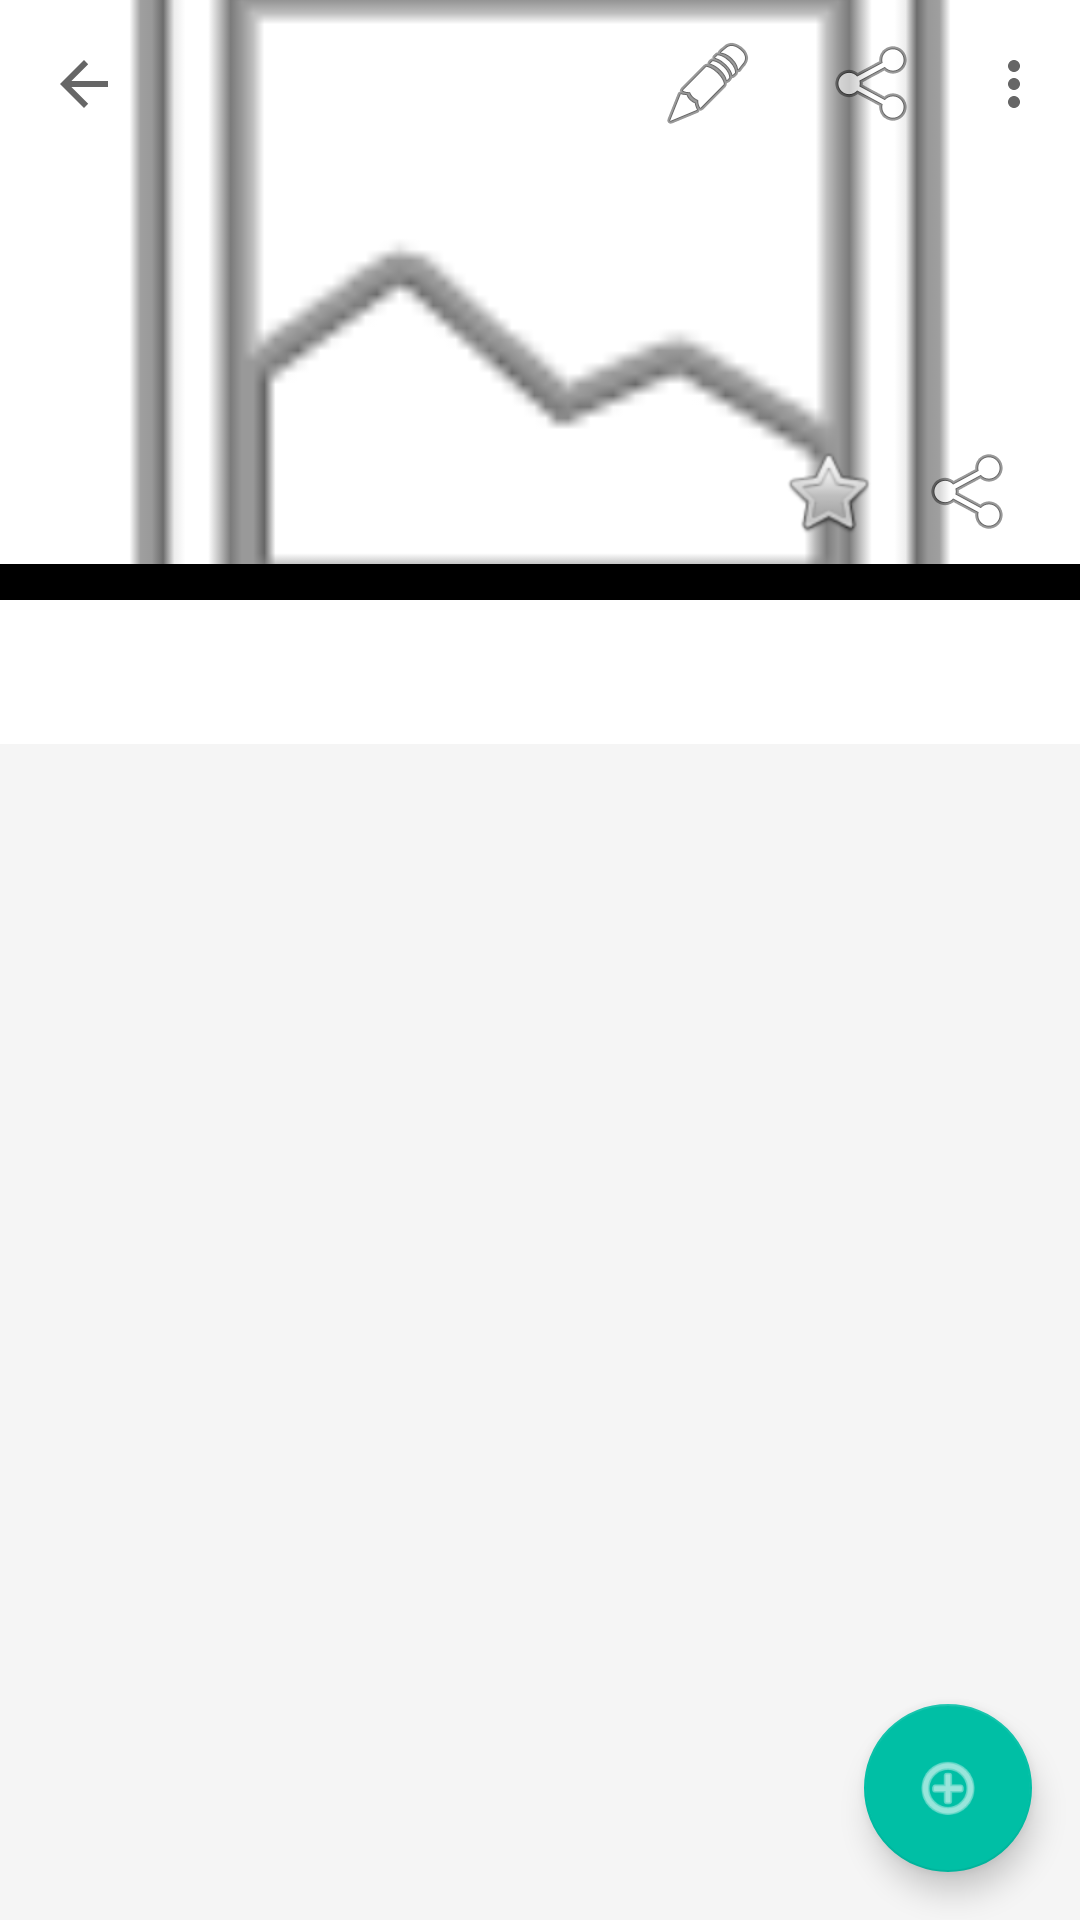

Where icons sit on this 1080 x 1920 app screen, as (x1, y1, x2, y2):
Mark as Favorite: (768, 432, 869, 552)
